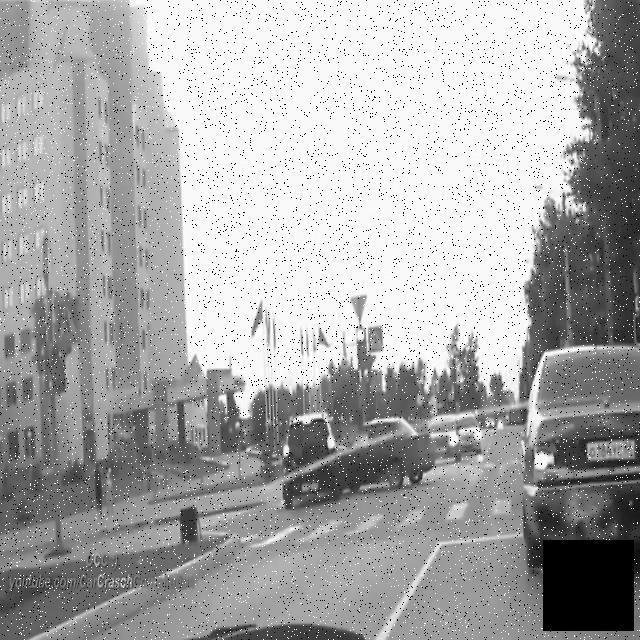multiple_accident: (247, 338, 440, 512)
